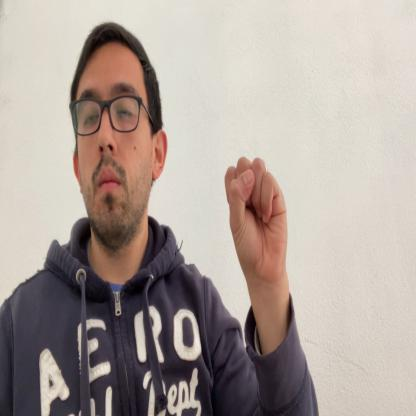S: (224, 157, 288, 277)
